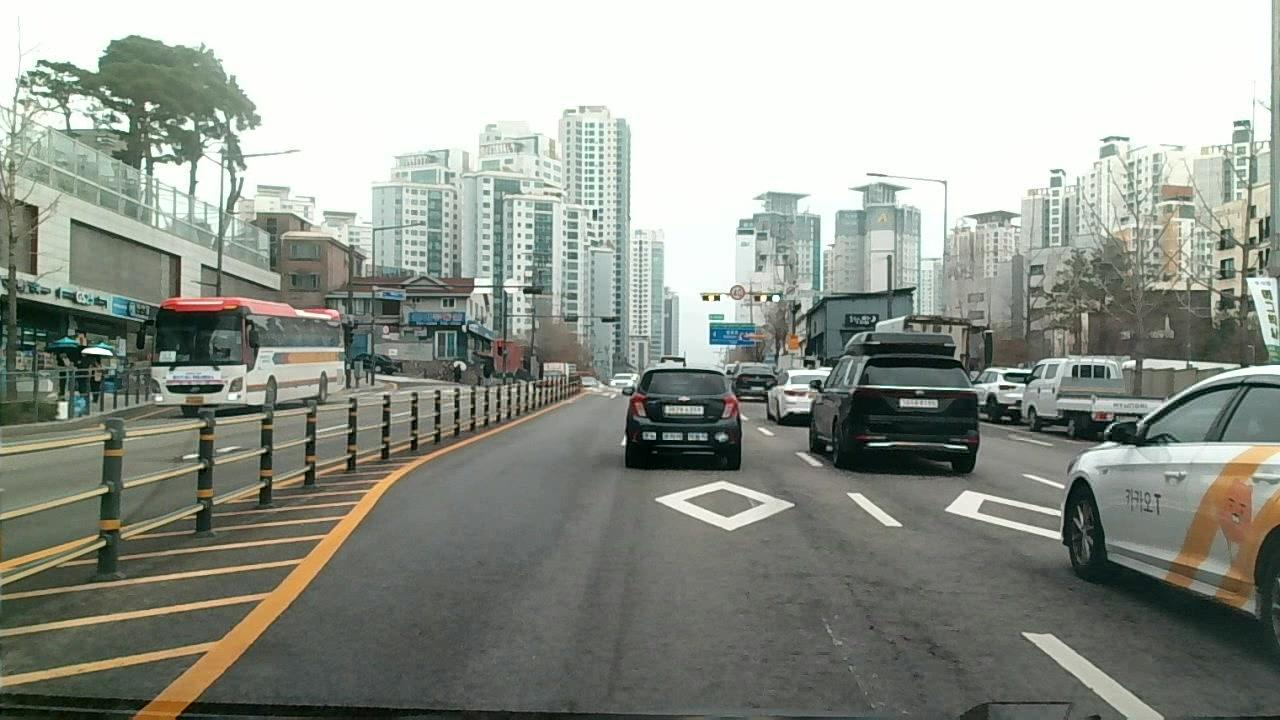vcrack: (836, 567, 974, 706)
